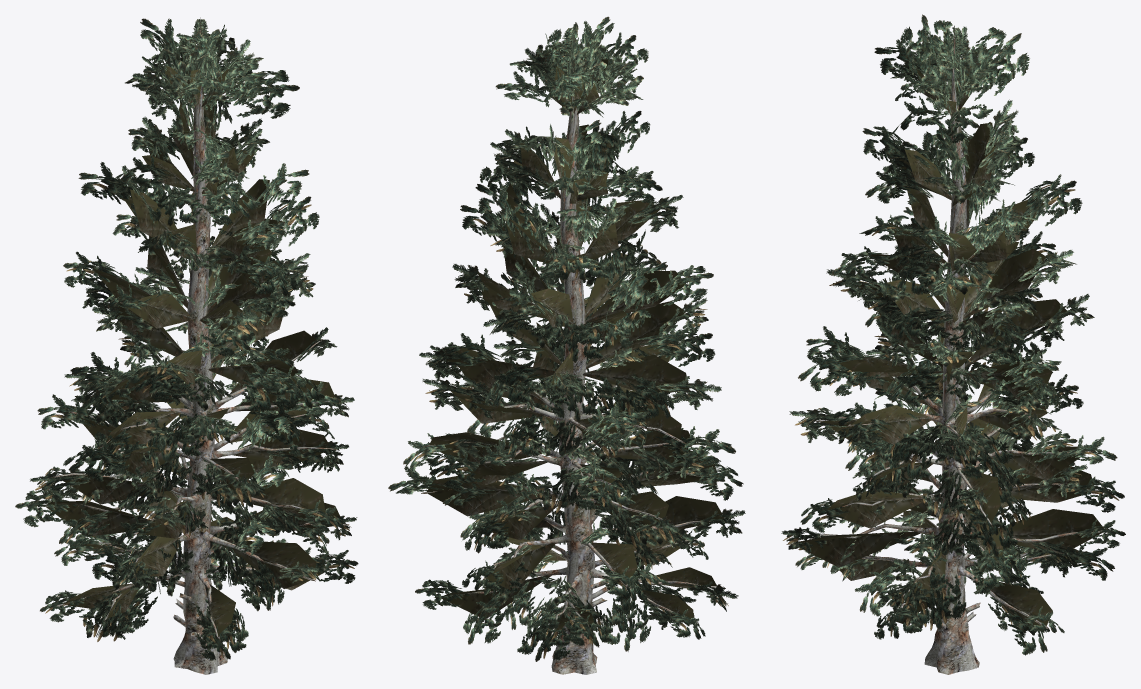
File: BlueSpruce_5.fbx
The picture shows the model from 3 angles, left to right: view 1: azimuth 30°, elevation 25°; view 2: azimuth 150°, elevation 25°; view 3: azimuth 270°, elevation 25°; orthographic projection.
Visible parts, largest first — view 1: BlueSpruce_5; view 2: BlueSpruce_5; view 3: BlueSpruce_5.
Part boxes in pixels (bbox=[...]): BlueSpruce_5: bbox=[15, 17, 358, 674]; BlueSpruce_5: bbox=[388, 16, 745, 674]; BlueSpruce_5: bbox=[781, 14, 1125, 674].
Bounding box in the file's own units: 13.18 × 26.46 × 12.96.
